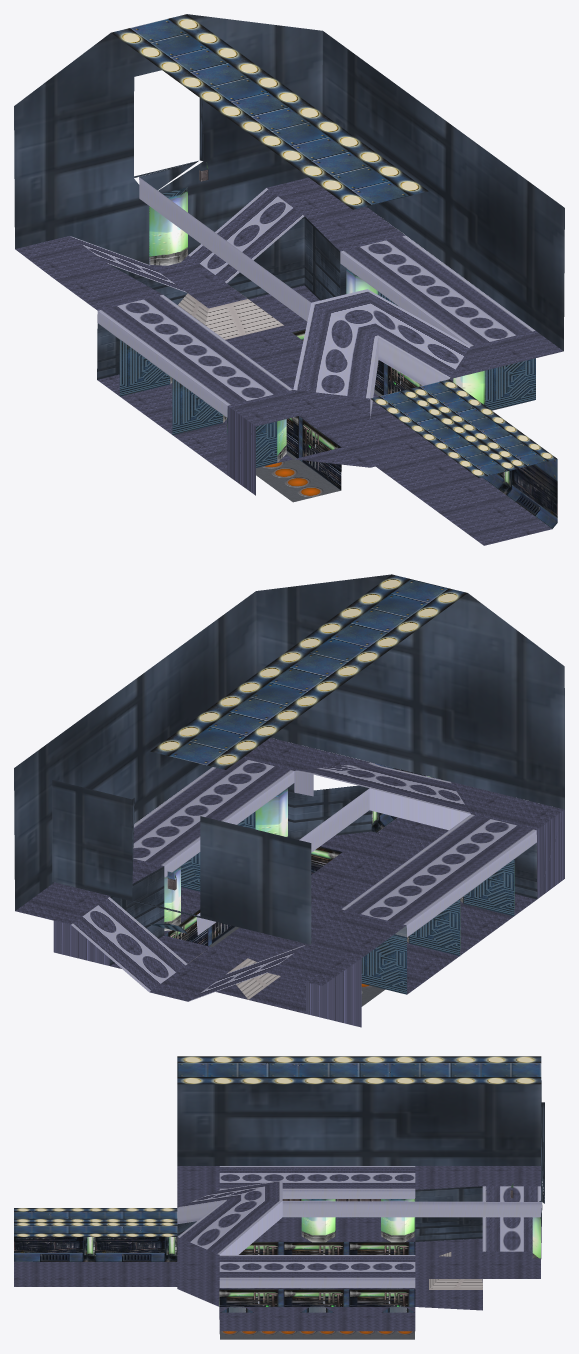
File: firstroom.glb
The picture shows the model from 3 angles, top to bottom: view 1: azimuth 30°, elevation 25°; view 2: azimuth 150°, elevation 25°; view 3: azimuth 270°, elevation 25°; orthographic projection. The views are drawn at different scales.
Parts seen in each view (by area): view 1: firstroom; view 2: firstroom; view 3: firstroom.
Part boxes in pixels (box(x1,y1,x2,y2)): firstroom: box(14, 14, 564, 545); firstroom: box(14, 574, 564, 1027); firstroom: box(14, 1056, 544, 1339).
Size of the model in its own units: 2333 by 2198 by 4774.
Materials: 13 (12 with a texture image).
